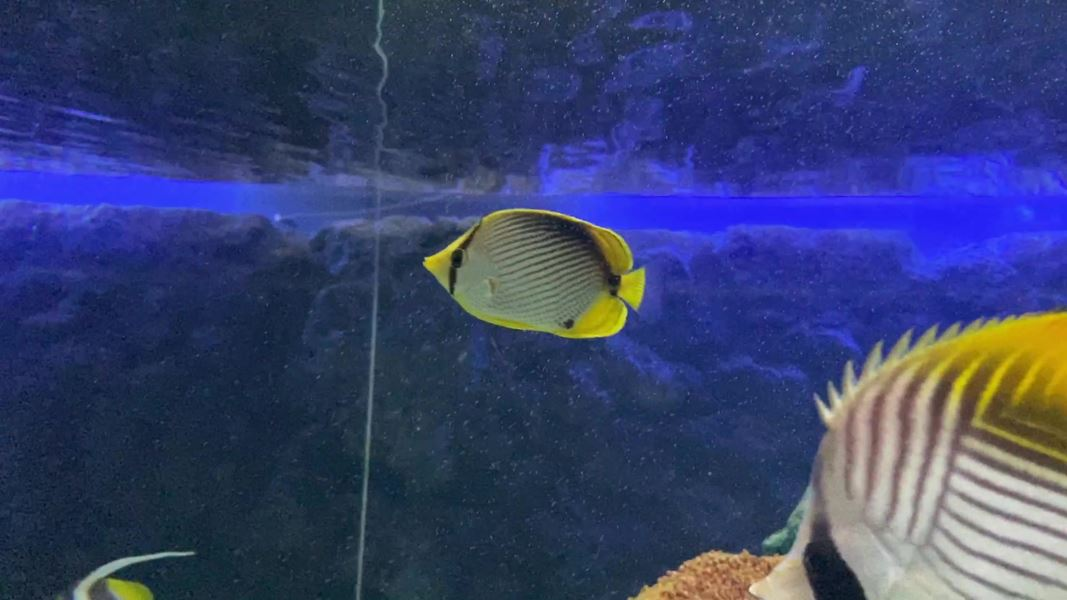Black-backed butterflyfish: (415, 200, 676, 351)
